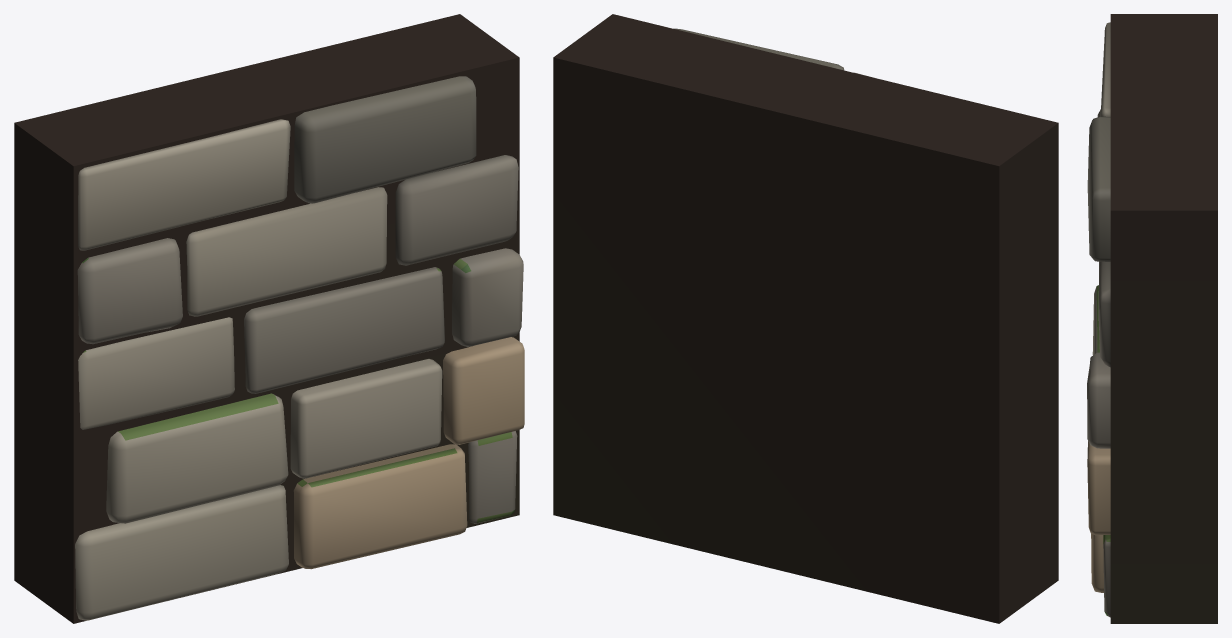
Rendered from kit_wall3.glb.
3 renders of one model, left to right at view 1: azimuth 30°, elevation 25°; view 2: azimuth 150°, elevation 25°; view 3: azimuth 270°, elevation 25°, orthographic. The views are drawn at different scales.
Visible parts, largest first — view 1: kit_wall3; view 2: kit_wall3; view 3: kit_wall3.
Boxes of the visible parts, <box> form: kit_wall3: <box>14,14,524,623</box>; kit_wall3: <box>553,14,1058,623</box>; kit_wall3: <box>1087,14,1217,623</box>.
Size of the model in its own units: 1.04 by 1.02 by 0.2924.
